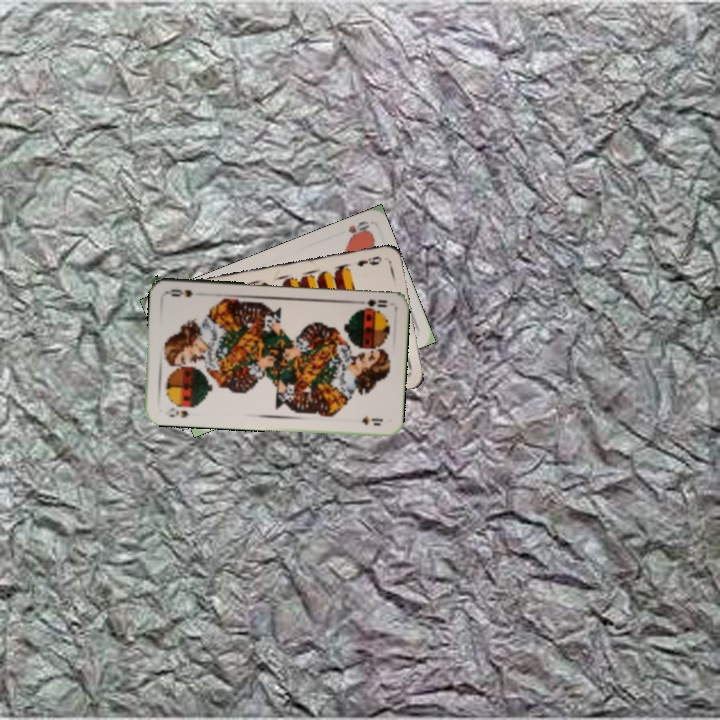E9: (353, 252, 384, 269)
HO: (344, 217, 372, 241)
SO: (352, 295, 390, 311), (161, 404, 191, 420)
